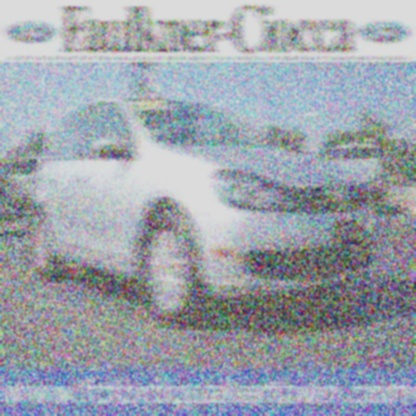Vehicle: (27, 101, 387, 339)
